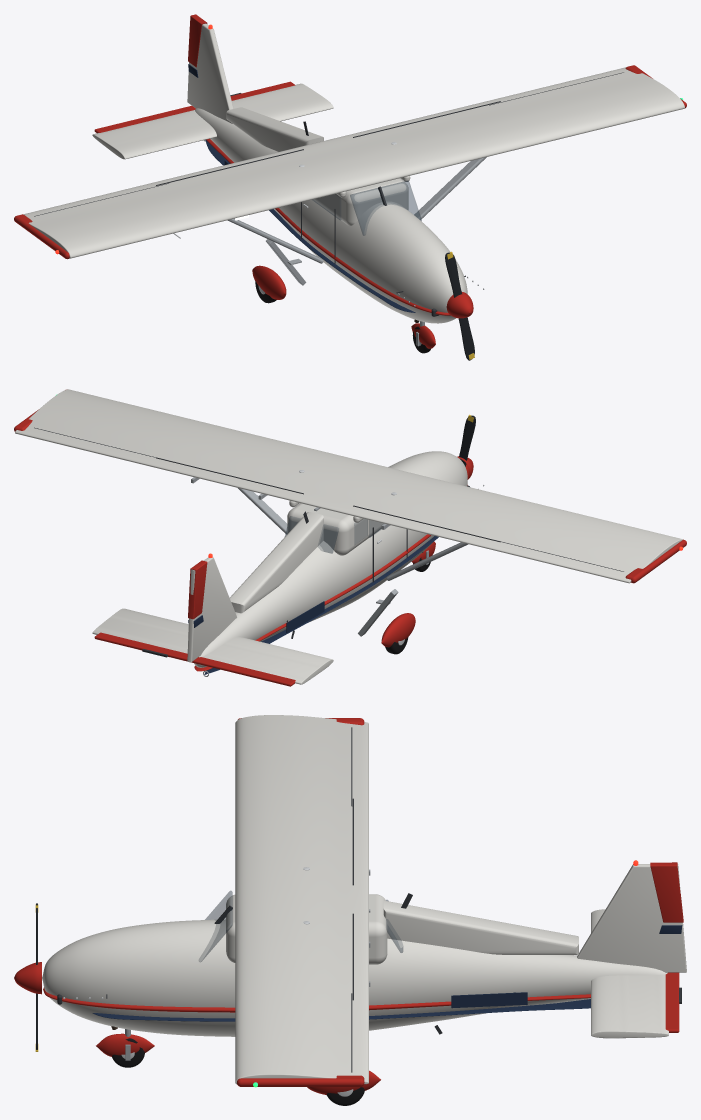
File: cessna.glb
3 renders of one model, top to bottom at view 1: azimuth 30°, elevation 25°; view 2: azimuth 150°, elevation 25°; view 3: azimuth 270°, elevation 25°, orthographic. The views are drawn at different scales.
Visible parts, largest first — view 1: wing, fuselage, h-stab, fin, dorsal, cabin top, windshield, wing strut (×2), stripe, pinstripe, elevator, propeller (+4 smaller); view 2: wing, fuselage, h-stab, dorsal, fin, cabin top, elevator, wing strut (×2), pinstripe, rudder stripe, wheel pant, stripe (+2 smaller); view 3: wing, fuselage, fin, dorsal, h-stab, pinstripe, cabin top, stripe, rudder stripe, wing tip, registration, elevator (+3 smaller).
Part boxes in pixels (x1,y1,x2,y2): wing: (23, 67, 684, 258); fuselage: (195, 108, 467, 323); h-stab: (92, 83, 333, 159); fin: (187, 23, 233, 123); dorsal: (226, 107, 323, 151); cabin top: (313, 178, 408, 225); windshield: (350, 181, 421, 235); wing strut (×2): (227, 157, 486, 263); stripe: (206, 138, 450, 315); pinstripe: (205, 139, 415, 312); elevator: (94, 81, 295, 133); propeller: (445, 252, 474, 360); wing: (15, 389, 683, 583); fuselage: (194, 451, 467, 667); h-stab: (92, 608, 333, 684); dorsal: (230, 512, 323, 613); fin: (187, 557, 236, 662); cabin top: (287, 503, 383, 555); elevator: (94, 632, 295, 686); wing strut (×2): (238, 488, 468, 580); pinstripe: (204, 536, 438, 674); rudder stripe: (188, 560, 207, 619); wheel pant: (381, 613, 415, 647); stripe: (194, 485, 467, 671); wing: (235, 715, 368, 1084); fuselage: (42, 919, 667, 1036); fin: (577, 864, 686, 972); dorsal: (383, 900, 578, 954); h-stab: (591, 909, 668, 1038); pinstripe: (92, 999, 590, 1021); cabin top: (226, 894, 387, 964); stripe: (43, 987, 590, 1012); rudder stripe: (650, 862, 683, 922); wing tip: (237, 1075, 364, 1086); registration: (451, 992, 527, 1008); elevator: (665, 972, 679, 1032).
Size of the model in its own units: 10.2 by 2.68 by 7.91.
